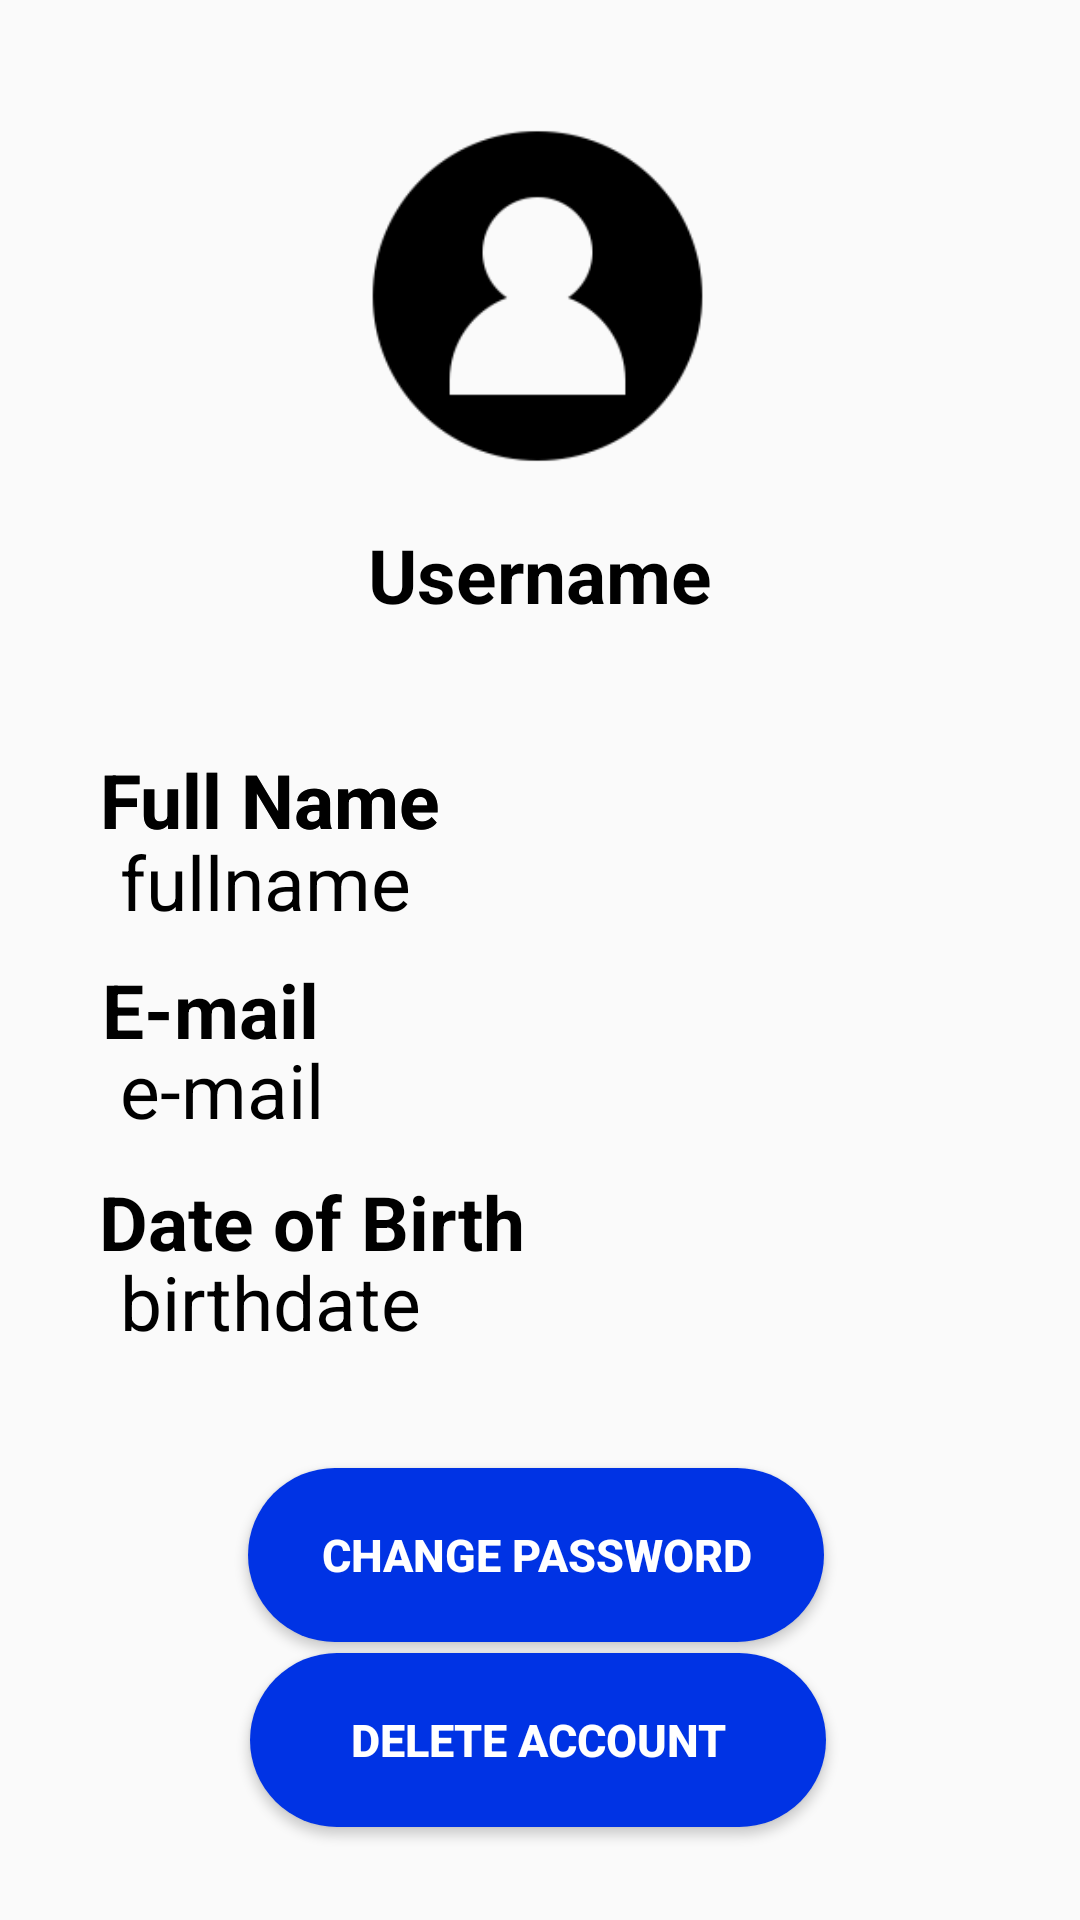

Icon bounding boxes for this 1080 x 1920 phone screenshot, format (x1, y1, x2, y2):
no profile pic: (372, 131, 703, 461)
